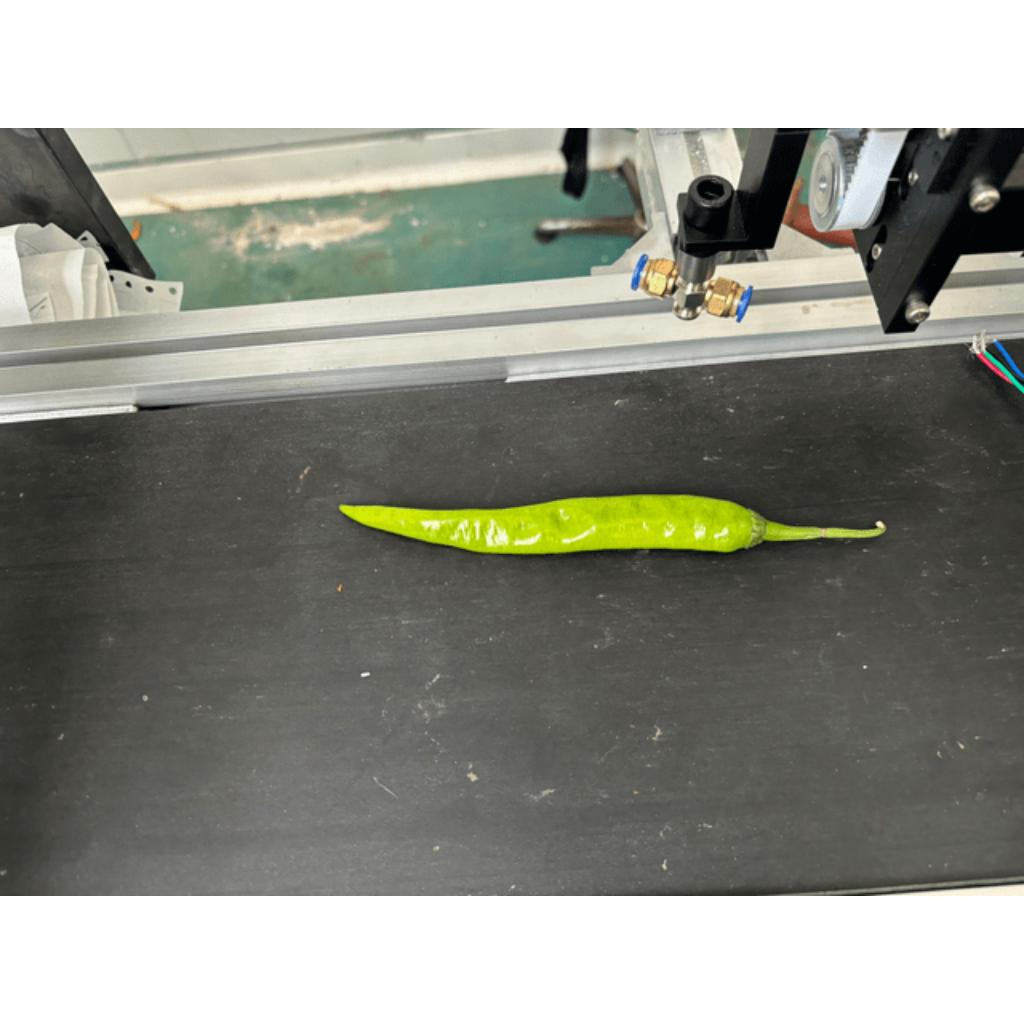chili: (337, 492, 768, 555)
